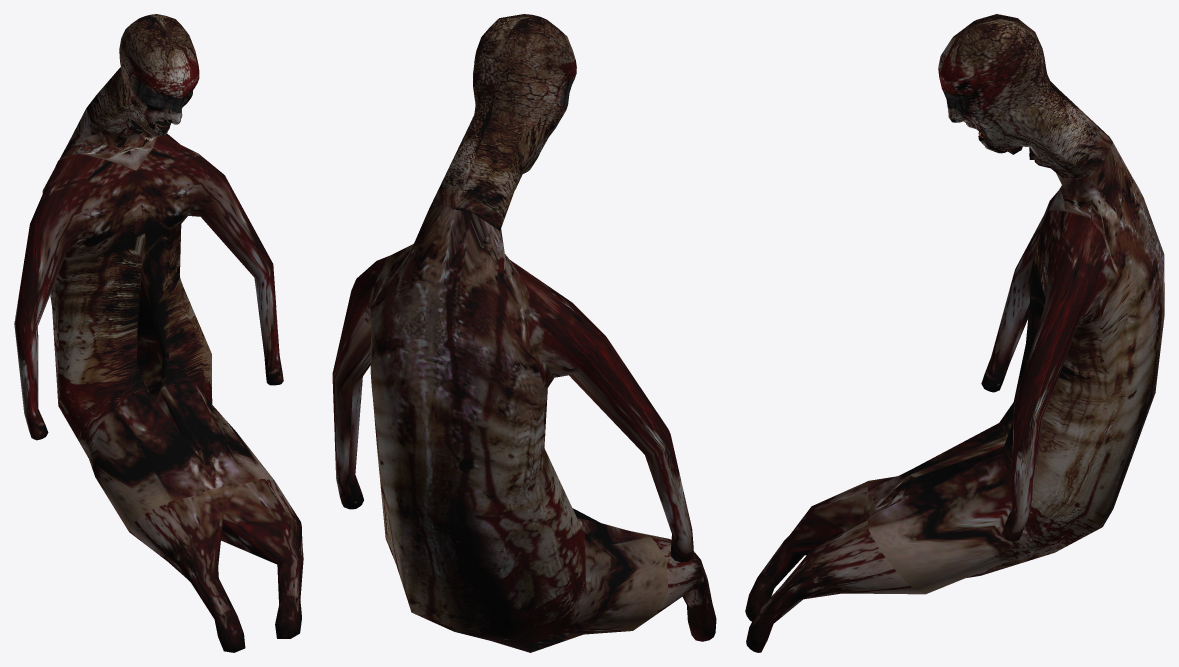
The model's file is COFspitter.fbx.
The picture shows the model from 3 angles, left to right: view 1: azimuth 30°, elevation 25°; view 2: azimuth 150°, elevation 25°; view 3: azimuth 270°, elevation 25°; orthographic projection. The views are drawn at different scales.
Visible parts, largest first — view 1: ref.001; view 2: ref.001; view 3: ref.001.
Part boxes in pixels (x1,y1,x2,y2): ref.001: [14, 14, 303, 652]; ref.001: [332, 14, 716, 652]; ref.001: [745, 14, 1164, 652].
Bounding box in the file's own units: 3621 × 7218 × 4441.
